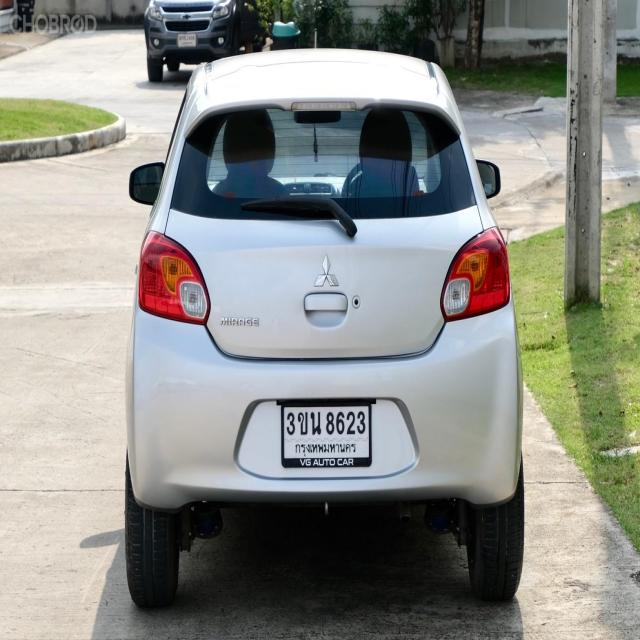license_plate: (280, 398, 373, 468)
